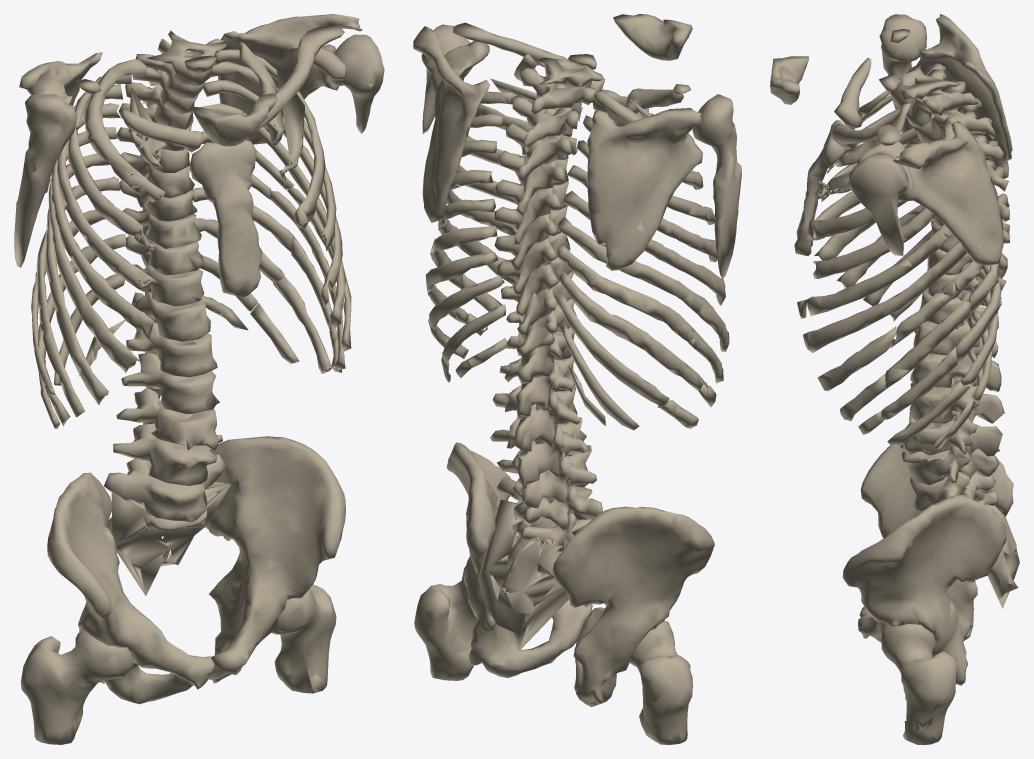
File: tsd_s0327_older_adult_male.skeletal.LOD4.glb
3 views of the same model, side by side, from view 1: azimuth 30°, elevation 25°; view 2: azimuth 150°, elevation 25°; view 3: azimuth 270°, elevation 25° (orthographic). The views are drawn at different scales.
Parts seen in each view (by area): view 1: TSD_S0327.OLDER_ADULT.MALE.SKELETAL.HIP_BONE_OS_COXAE.L, TSD_S0327.OLDER_ADULT.MALE.SKELETAL.HIP_BONE_OS_COXAE.R, TSD_S0327.OLDER_ADULT.MALE.SKELETAL.FEMUR.R, TSD_S0327.OLDER_ADULT.MALE.SKELETAL.STERNUM, TSD_S0327.OLDER_ADULT.MALE.SKELETAL.SCAPULA.L, TSD_S0327.OLDER_ADULT.MALE.SKELETAL.HUMERUS.R, TSD_S0327.OLDER_ADULT.MALE.SKELETAL.FEMUR.L, TSD_S0327.OLDER_ADULT.MALE.SKELETAL.SACRUM, TSD_S0327.OLDER_ADULT.MALE.SKELETAL.VERTEBRA_L5, TSD_S0327.OLDER_ADULT.MALE.SKELETAL.VERTEBRA_L4, TSD_S0327.OLDER_ADULT.MALE.SKELETAL.RIB_2.R, TSD_S0327.OLDER_ADULT.MALE.SKELETAL.VERTEBRA_L3 (+41 smaller); view 2: TSD_S0327.OLDER_ADULT.MALE.SKELETAL.HIP_BONE_OS_COXAE.R, TSD_S0327.OLDER_ADULT.MALE.SKELETAL.SCAPULA.R, TSD_S0327.OLDER_ADULT.MALE.SKELETAL.HIP_BONE_OS_COXAE.L, TSD_S0327.OLDER_ADULT.MALE.SKELETAL.SACRUM, TSD_S0327.OLDER_ADULT.MALE.SKELETAL.SCAPULA.L, TSD_S0327.OLDER_ADULT.MALE.SKELETAL.FEMUR.R, TSD_S0327.OLDER_ADULT.MALE.SKELETAL.FEMUR.L, TSD_S0327.OLDER_ADULT.MALE.SKELETAL.HUMERUS.R, TSD_S0327.OLDER_ADULT.MALE.SKELETAL.RIB_8.R, TSD_S0327.OLDER_ADULT.MALE.SKELETAL.RIB_9.R, TSD_S0327.OLDER_ADULT.MALE.SKELETAL.RIB_7.R, TSD_S0327.OLDER_ADULT.MALE.SKELETAL.VERTEBRA_L3 (+37 smaller); view 3: TSD_S0327.OLDER_ADULT.MALE.SKELETAL.HIP_BONE_OS_COXAE.L, TSD_S0327.OLDER_ADULT.MALE.SKELETAL.SCAPULA.L, TSD_S0327.OLDER_ADULT.MALE.SKELETAL.FEMUR.L, TSD_S0327.OLDER_ADULT.MALE.SKELETAL.HIP_BONE_OS_COXAE.R, TSD_S0327.OLDER_ADULT.MALE.SKELETAL.SCAPULA.R, TSD_S0327.OLDER_ADULT.MALE.SKELETAL.HUMERUS.L, TSD_S0327.OLDER_ADULT.MALE.SKELETAL.RIB_9.L, TSD_S0327.OLDER_ADULT.MALE.SKELETAL.RIB_6.L, TSD_S0327.OLDER_ADULT.MALE.SKELETAL.RIB_5.L, TSD_S0327.OLDER_ADULT.MALE.SKELETAL.VERTEBRA_L4, TSD_S0327.OLDER_ADULT.MALE.SKELETAL.VERTEBRA_L3, TSD_S0327.OLDER_ADULT.MALE.SKELETAL.RIB_8.L (+30 smaller).
Boxes of the visible parts, left/top/right/bottom form: TSD_S0327.OLDER_ADULT.MALE.SKELETAL.HIP_BONE_OS_COXAE.L: left=205, top=436, right=345, bottom=683; TSD_S0327.OLDER_ADULT.MALE.SKELETAL.HIP_BONE_OS_COXAE.R: left=47, top=472, right=214, bottom=704; TSD_S0327.OLDER_ADULT.MALE.SKELETAL.FEMUR.R: left=20, top=631, right=133, bottom=744; TSD_S0327.OLDER_ADULT.MALE.SKELETAL.STERNUM: left=190, top=140, right=262, bottom=297; TSD_S0327.OLDER_ADULT.MALE.SKELETAL.SCAPULA.L: left=218, top=14, right=362, bottom=144; TSD_S0327.OLDER_ADULT.MALE.SKELETAL.HUMERUS.R: left=14, top=94, right=76, bottom=267; TSD_S0327.OLDER_ADULT.MALE.SKELETAL.FEMUR.L: left=271, top=584, right=336, bottom=693; TSD_S0327.OLDER_ADULT.MALE.SKELETAL.SACRUM: left=106, top=482, right=230, bottom=595; TSD_S0327.OLDER_ADULT.MALE.SKELETAL.VERTEBRA_L5: left=104, top=454, right=225, bottom=522; TSD_S0327.OLDER_ADULT.MALE.SKELETAL.VERTEBRA_L4: left=113, top=423, right=222, bottom=485; TSD_S0327.OLDER_ADULT.MALE.SKELETAL.RIB_2.R: left=84, top=59, right=165, bottom=202; TSD_S0327.OLDER_ADULT.MALE.SKELETAL.VERTEBRA_L3: left=116, top=387, right=219, bottom=450; TSD_S0327.OLDER_ADULT.MALE.SKELETAL.HIP_BONE_OS_COXAE.R: left=552, top=506, right=714, bottom=707; TSD_S0327.OLDER_ADULT.MALE.SKELETAL.SCAPULA.R: left=587, top=108, right=703, bottom=270; TSD_S0327.OLDER_ADULT.MALE.SKELETAL.HIP_BONE_OS_COXAE.L: left=446, top=442, right=592, bottom=677; TSD_S0327.OLDER_ADULT.MALE.SKELETAL.SACRUM: left=478, top=499, right=591, bottom=650; TSD_S0327.OLDER_ADULT.MALE.SKELETAL.SCAPULA.L: left=413, top=26, right=489, bottom=222; TSD_S0327.OLDER_ADULT.MALE.SKELETAL.FEMUR.R: left=629, top=620, right=692, bottom=744; TSD_S0327.OLDER_ADULT.MALE.SKELETAL.FEMUR.L: left=414, top=566, right=477, bottom=680; TSD_S0327.OLDER_ADULT.MALE.SKELETAL.HUMERUS.R: left=692, top=94, right=741, bottom=278; TSD_S0327.OLDER_ADULT.MALE.SKELETAL.RIB_8.R: left=557, top=244, right=723, bottom=382; TSD_S0327.OLDER_ADULT.MALE.SKELETAL.RIB_9.R: left=559, top=271, right=708, bottom=390; TSD_S0327.OLDER_ADULT.MALE.SKELETAL.RIB_7.R: left=558, top=217, right=729, bottom=351; TSD_S0327.OLDER_ADULT.MALE.SKELETAL.VERTEBRA_L3: left=490, top=417, right=590, bottom=488; TSD_S0327.OLDER_ADULT.MALE.SKELETAL.HIP_BONE_OS_COXAE.L: left=842, top=494, right=1006, bottom=685; TSD_S0327.OLDER_ADULT.MALE.SKELETAL.SCAPULA.L: left=856, top=121, right=1003, bottom=265; TSD_S0327.OLDER_ADULT.MALE.SKELETAL.FEMUR.L: left=880, top=623, right=957, bottom=744; TSD_S0327.OLDER_ADULT.MALE.SKELETAL.HIP_BONE_OS_COXAE.R: left=859, top=443, right=1013, bottom=640; TSD_S0327.OLDER_ADULT.MALE.SKELETAL.SCAPULA.R: left=916, top=14, right=1012, bottom=178; TSD_S0327.OLDER_ADULT.MALE.SKELETAL.HUMERUS.L: left=848, top=154, right=907, bottom=255; TSD_S0327.OLDER_ADULT.MALE.SKELETAL.RIB_9.L: left=858, top=265, right=1001, bottom=434; TSD_S0327.OLDER_ADULT.MALE.SKELETAL.RIB_6.L: left=803, top=241, right=966, bottom=352; TSD_S0327.OLDER_ADULT.MALE.SKELETAL.RIB_5.L: left=797, top=224, right=952, bottom=318; TSD_S0327.OLDER_ADULT.MALE.SKELETAL.VERTEBRA_L4: left=900, top=442, right=999, bottom=484; TSD_S0327.OLDER_ADULT.MALE.SKELETAL.VERTEBRA_L3: left=903, top=410, right=1002, bottom=456; TSD_S0327.OLDER_ADULT.MALE.SKELETAL.RIB_8.L: left=839, top=264, right=999, bottom=421.
Bounding box in the file's own units: 0.3354 × 0.644 × 0.2418.
